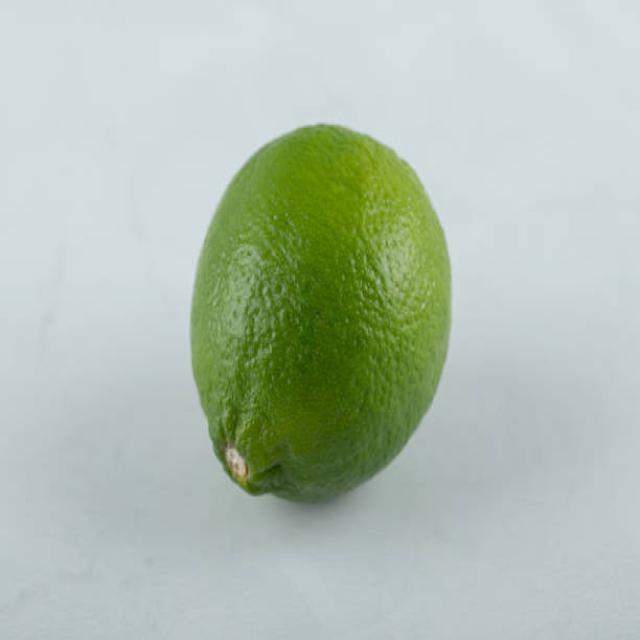Lemon: (191, 121, 452, 506)
